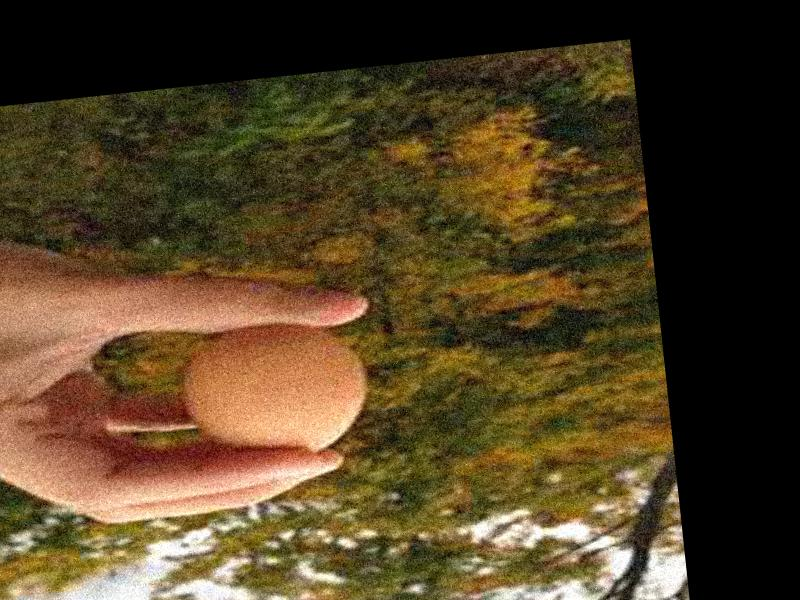Eggs: (180, 314, 371, 467)
